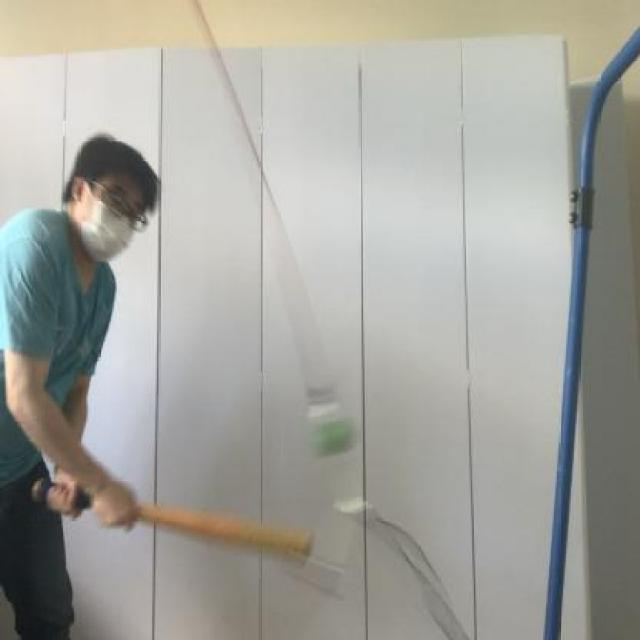baseball: (290, 408, 372, 460)
